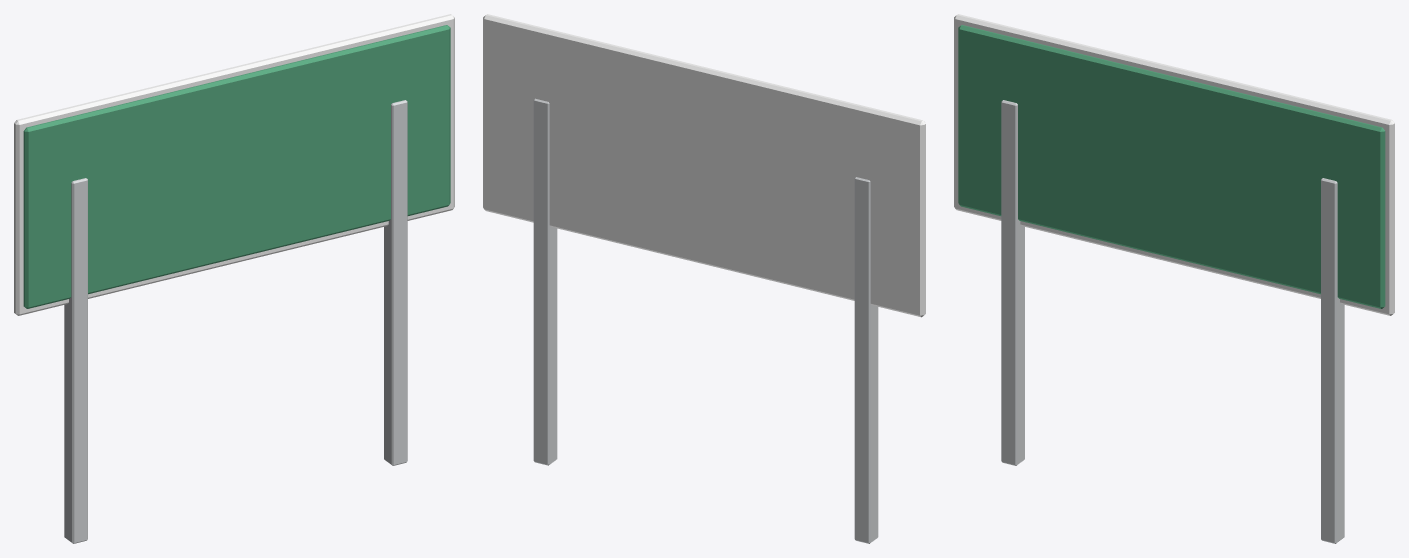
File: sign_board.glb
The picture shows the model from 3 angles, left to right: view 1: azimuth 30°, elevation 25°; view 2: azimuth 150°, elevation 25°; view 3: azimuth 330°, elevation 25°; orthographic projection.
Visible parts, largest first — view 1: sign_board; view 2: sign_board; view 3: sign_board.
Boxes of the visible parts, box(x1,y1,x2,y2) form: sign_board: box(14, 14, 454, 543); sign_board: box(483, 14, 925, 543); sign_board: box(954, 14, 1394, 543).
Bounding box in the file's own units: 3.3 × 3.1 × 0.12.
